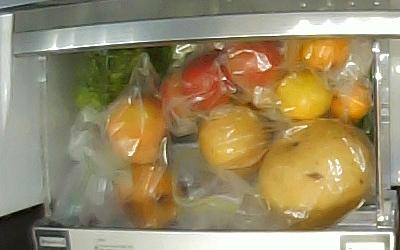peach_vinyl: (116, 164, 180, 230), (106, 97, 164, 164)
pear_vinyl: (258, 120, 369, 224), (199, 104, 268, 167)
tangerine_vinyl: (276, 73, 332, 119), (300, 36, 349, 73), (332, 83, 372, 123), (284, 39, 319, 72)
tomato_vinyl: (223, 41, 284, 90), (181, 54, 232, 110), (161, 72, 194, 121)
